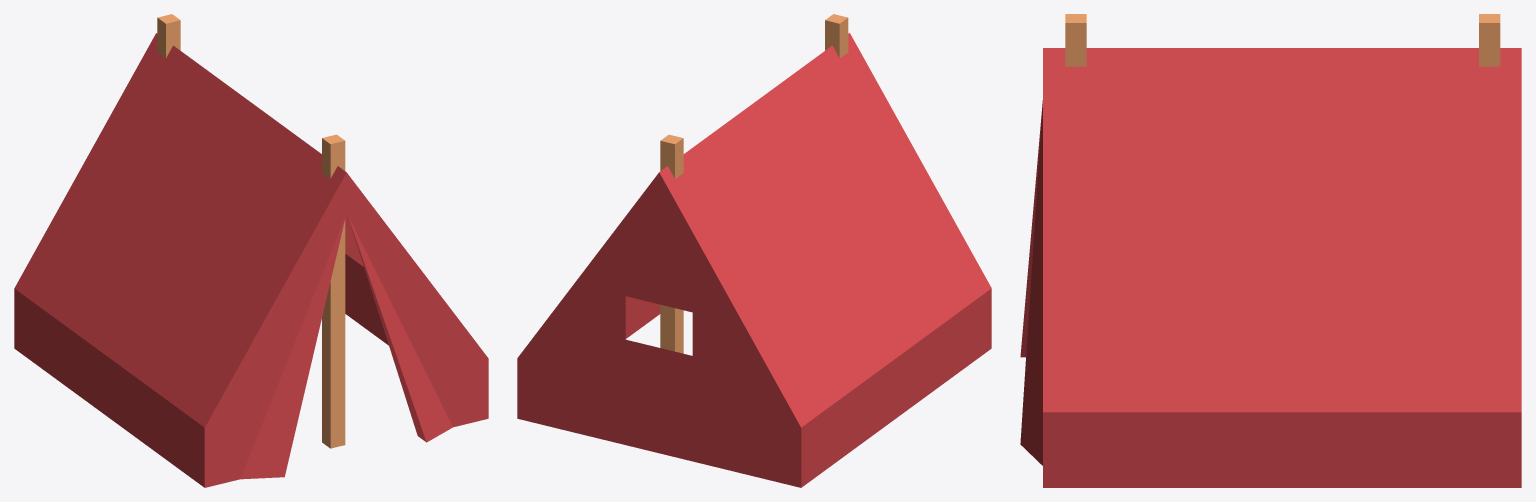
The model's file is tent_smallOpen.fbx.
The picture shows the model from 3 angles, left to right: view 1: azimuth 30°, elevation 25°; view 2: azimuth 150°, elevation 25°; view 3: azimuth 270°, elevation 25°; orthographic projection. The views are drawn at different scales.
Parts seen in each view (by area): view 1: tent_smallOpen; view 2: tent_smallOpen; view 3: tent_smallOpen.
Part boxes in pixels (box(x1,y1,x2,y2)): tent_smallOpen: box(14, 14, 488, 487); tent_smallOpen: box(517, 14, 991, 487); tent_smallOpen: box(1020, 14, 1521, 487).
Bounding box in the file's own units: 5.48 × 5.61 × 6.66.
